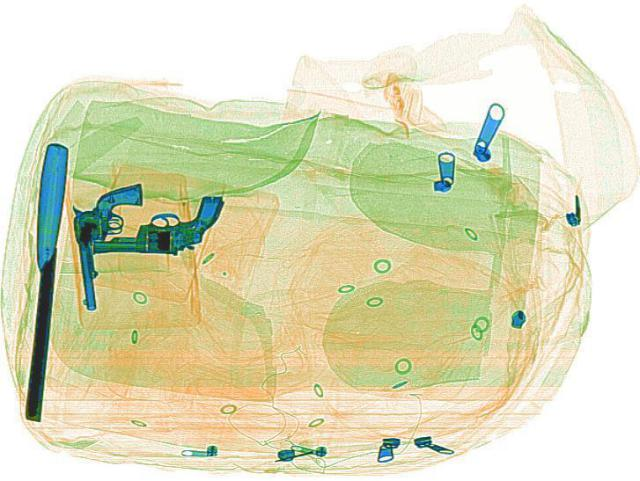Gun: (60, 181, 160, 308), (87, 192, 225, 255)
Knife: (15, 142, 70, 419)
